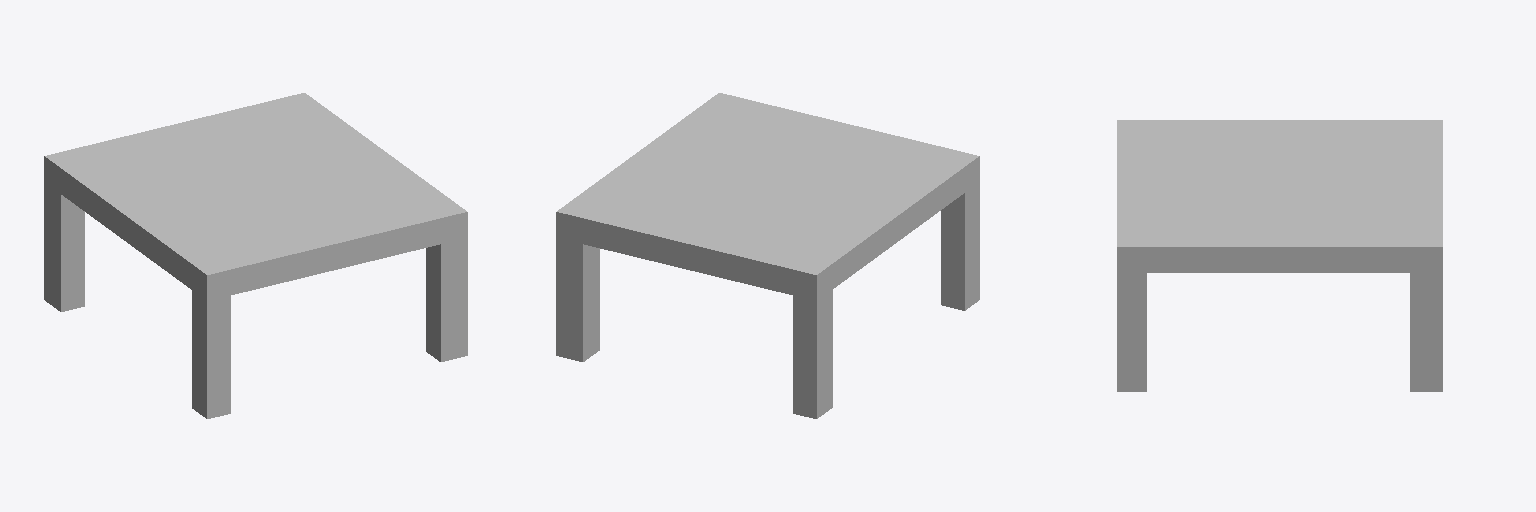
The model's file is masa.obj.
3 views of the same model, side by side, from view 1: azimuth 30°, elevation 25°; view 2: azimuth 150°, elevation 25°; view 3: azimuth 270°, elevation 25° (orthographic).
Parts seen in each view (by area): view 1: Cube_Cube.002; view 2: Cube_Cube.002; view 3: Cube_Cube.002.
Boxes of the visible parts, x1=… form: Cube_Cube.002: x1=44, y1=93, x2=467, y2=418; Cube_Cube.002: x1=556, y1=93, x2=979, y2=418; Cube_Cube.002: x1=1117, y1=120, x2=1442, y2=391.
Size of the model in its own units: 9.78 by 5.17 by 10.59.